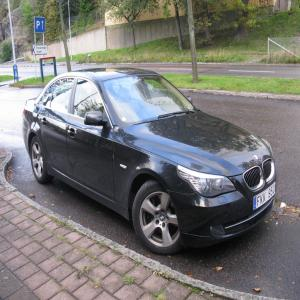Vehicle-registration-plate: (253, 183, 276, 210)
